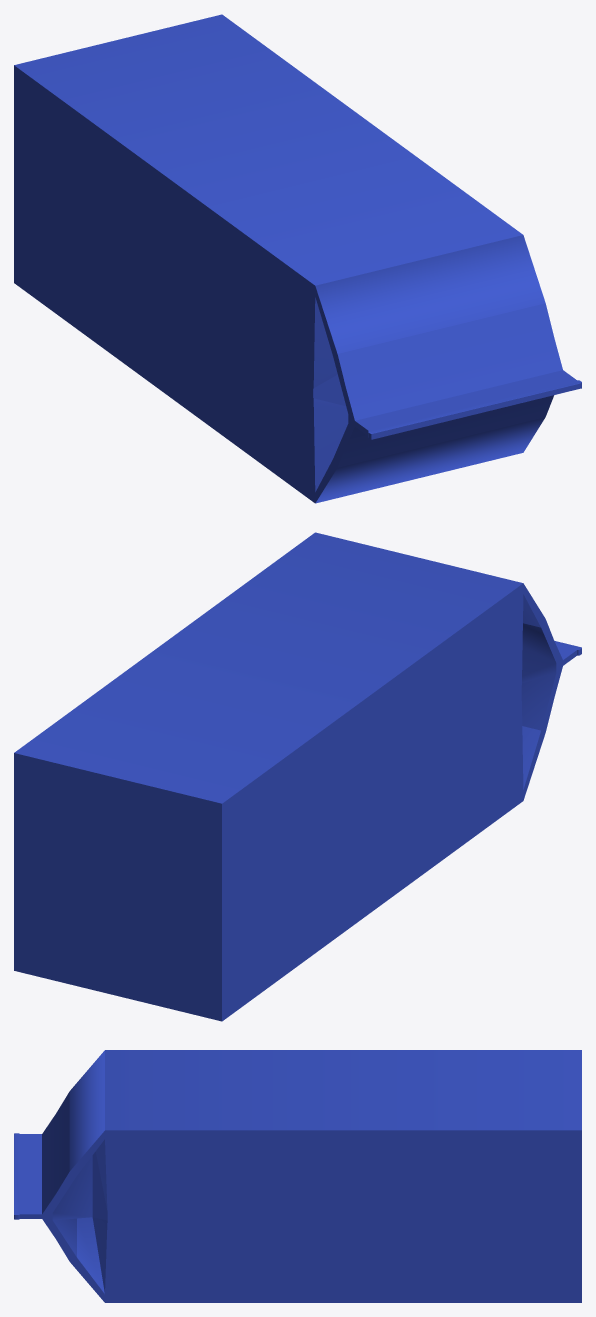
3 renders of one model, top to bottom at view 1: azimuth 30°, elevation 25°; view 2: azimuth 150°, elevation 25°; view 3: azimuth 270°, elevation 25°, orthographic. The views are drawn at different scales.
Bounding box in the file's own units: 0.3409 × 0.335 × 1.
